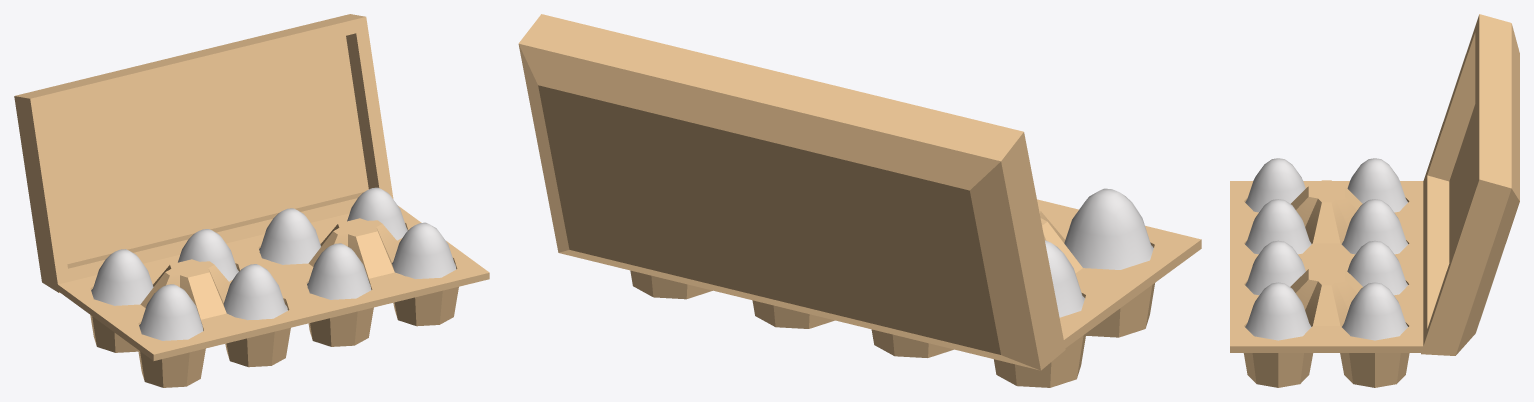
The model's file is Eggs.fbx.
3 views of the same model, side by side, from view 1: azimuth 30°, elevation 25°; view 2: azimuth 150°, elevation 25°; view 3: azimuth 270°, elevation 25° (orthographic). The views are drawn at different scales.
Visible parts, largest first — view 1: Eggs_Package_LOD_0; view 2: Eggs_Package_LOD_0; view 3: Eggs_Package_LOD_0.
Boxes of the visible parts, left/top/right/bottom form: Eggs_Package_LOD_0: left=14, top=14, right=489, bottom=387; Eggs_Package_LOD_0: left=518, top=14, right=1201, bottom=387; Eggs_Package_LOD_0: left=1230, top=14, right=1519, bottom=387.
Size of what is drawn, in the model's own units: 23.99 by 14.59 by 17.76.
